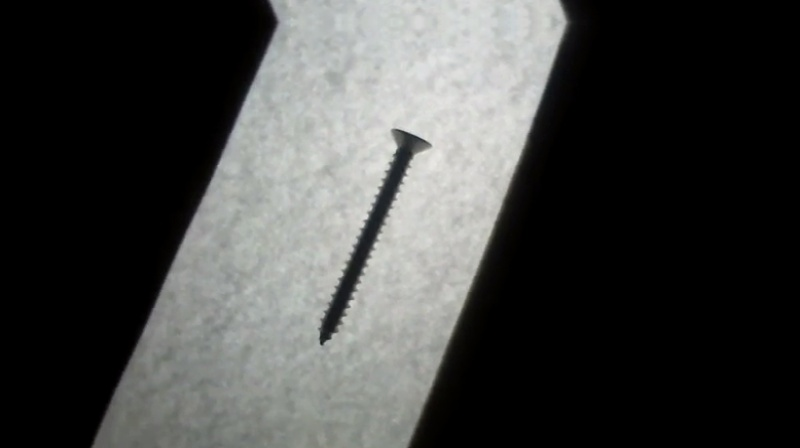S002: (315, 126, 434, 349)
